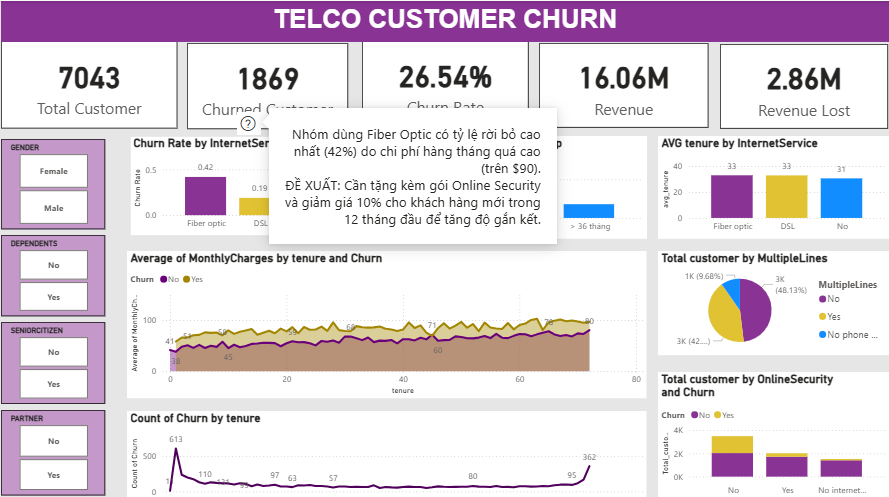

The dashboard page shown, as its layout file describes it:
{"tool":"powerbi","page":{"name":"Page 1","canvas":[1280,720],"ordinal":0},"visuals":[{"type":"card","fields":{"Values":["Count(Telco-Customer-Churn (2).customerID)"]},"box":[0,57.1,254.3,125.7],"z":0},{"type":"card","fields":{"Values":["Telco-Customer-Churn (2).Churned_customer"]},"box":[268,60,232,124],"z":1000},{"type":"card","fields":{"Values":["Telco-Customer-Churn (2).Churn_Rate"]},"box":[520,58,240,124],"z":2000},{"type":"clusteredColumnChart","title":"Churned Customer by Tenure Group","fields":{"Y":["Telco-Customer-Churn (2).Churned_customer"],"Category":["Telco-Customer-Churn (2).Tenure Group"]},"box":[534,194,396,148],"z":3000},{"type":"clusteredColumnChart","title":"AVG tenure by InternetService","fields":{"Y":["Telco-Customer-Churn (2).avg_tenure"],"Category":["Telco-Customer-Churn (2).InternetService"]},"box":[946,194,334,148],"z":4000},{"type":"columnChart","title":"Total customer by OnlineSecurity and Churn","fields":{"Y":["Telco-Customer-Churn (2).Total_customer"],"Series":["Telco-Customer-Churn (2).Churn"],"Category":["Telco-Customer-Churn (2).OnlineSecurity"]},"box":[946,534.9,333.3,185.7],"z":5000},{"type":"pieChart","title":"Total customer by MultipleLines","fields":{"Category":["Telco-Customer-Churn (2).MultipleLines"],"Y":["Telco-Customer-Churn (2).Total_customer"]},"box":[946,360,334,150],"z":6000},{"type":"slicer","fields":{"Values":["Telco-Customer-Churn (2).Dependents"]},"box":[0,337,150,117],"z":7000},{"type":"slicer","fields":{"Values":["Telco-Customer-Churn (2).SeniorCitizen"]},"box":[0,462,150,118],"z":8000},{"type":"columnChart","title":"Churn Rate by InternetService","fields":{"Category":["Telco-Customer-Churn (2).InternetService"],"Y":["Telco-Customer-Churn (2).Churn_Rate"]},"box":[186,194,334,144],"z":9000},{"type":"textbox","box":[0,0,1279,58.5],"z":10000},{"type":"slicer","fields":{"Values":["Telco-Customer-Churn (2).gender"]},"box":[0,198.3,150,130],"z":11000},{"type":"card","fields":{"Values":["Telco-Customer-Churn (2).Revenue Lost"]},"box":[1036,62,242,122],"z":12000},{"type":"card","fields":{"Values":["Sum(Telco-Customer-Churn (2).TotalCharges)"]},"box":[774,60,244,122],"z":13000},{"type":"areaChart","fields":{"Category":["Telco-Customer-Churn (2).tenure"],"Y":["Avg(Telco-Customer-Churn (2).MonthlyCharges)"],"Series":["Telco-Customer-Churn (2).Churn"]},"box":[182,360,748,212],"z":14000},{"type":"slicer","fields":{"Values":["Telco-Customer-Churn (2).Partner"]},"box":[0,589,150,123],"z":15000},{"type":"lineChart","fields":{"Category":["Telco-Customer-Churn (2).tenure"],"Y":["CountNonNull(Telco-Customer-Churn (2).Churn)"]},"box":[182,590,748,130],"z":16000}]}

Visuals, with their boxes in screenshot pixels (x1, y1, x2, y2), scaled from the page's 1280x720 canvas onto the 889x497 screenshot:
card - Count(Telco-Customer-Churn (2).customerID): bbox=(0, 39, 177, 126)
card - Telco-Customer-Churn (2).Churned_customer: bbox=(186, 41, 347, 127)
card - Telco-Customer-Churn (2).Churn_Rate: bbox=(361, 40, 528, 126)
"Churned Customer by Tenure Group" clusteredColumnChart: bbox=(371, 134, 646, 236)
"AVG tenure by InternetService" clusteredColumnChart: bbox=(657, 134, 888, 236)
"Total customer by OnlineSecurity and Churn" columnChart: bbox=(657, 369, 888, 496)
"Total customer by MultipleLines" pieChart: bbox=(657, 248, 888, 352)
slicer - Telco-Customer-Churn (2).Dependents: bbox=(0, 233, 104, 313)
slicer - Telco-Customer-Churn (2).SeniorCitizen: bbox=(0, 319, 104, 400)
"Churn Rate by InternetService" columnChart: bbox=(129, 134, 361, 233)
textbox: bbox=(0, 0, 888, 40)
slicer - Telco-Customer-Churn (2).gender: bbox=(0, 137, 104, 227)
card - Telco-Customer-Churn (2).Revenue Lost: bbox=(720, 43, 888, 127)
card - Sum(Telco-Customer-Churn (2).TotalCharges): bbox=(538, 41, 707, 126)
areaChart - Telco-Customer-Churn (2).tenure x Avg(Telco-Customer-Churn (2).MonthlyCharges): bbox=(126, 248, 646, 395)
slicer - Telco-Customer-Churn (2).Partner: bbox=(0, 407, 104, 491)
lineChart - Telco-Customer-Churn (2).tenure x CountNonNull(Telco-Customer-Churn (2).Churn): bbox=(126, 407, 646, 496)
